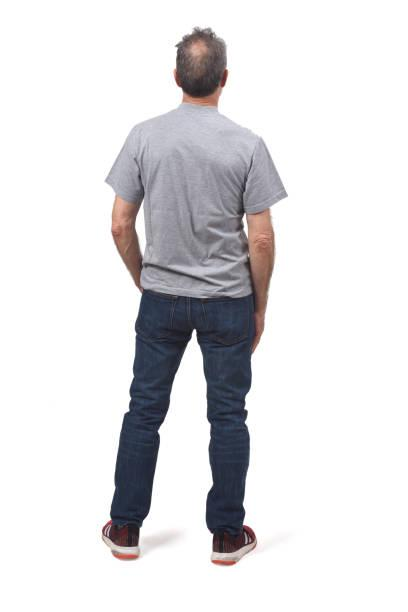Human: (91, 21, 294, 572)
